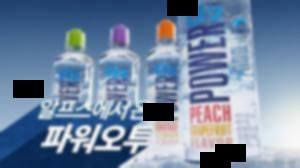powerO2_orange: (144, 17, 188, 160)
